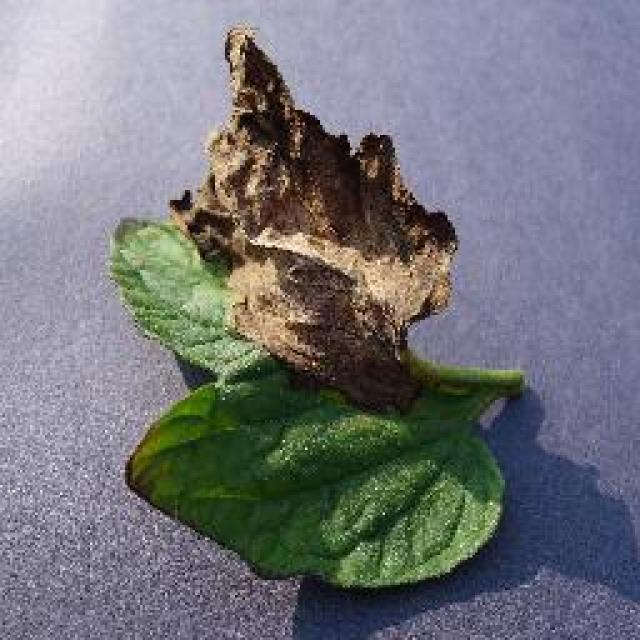Tomato late blight leaf: (111, 20, 508, 587)
